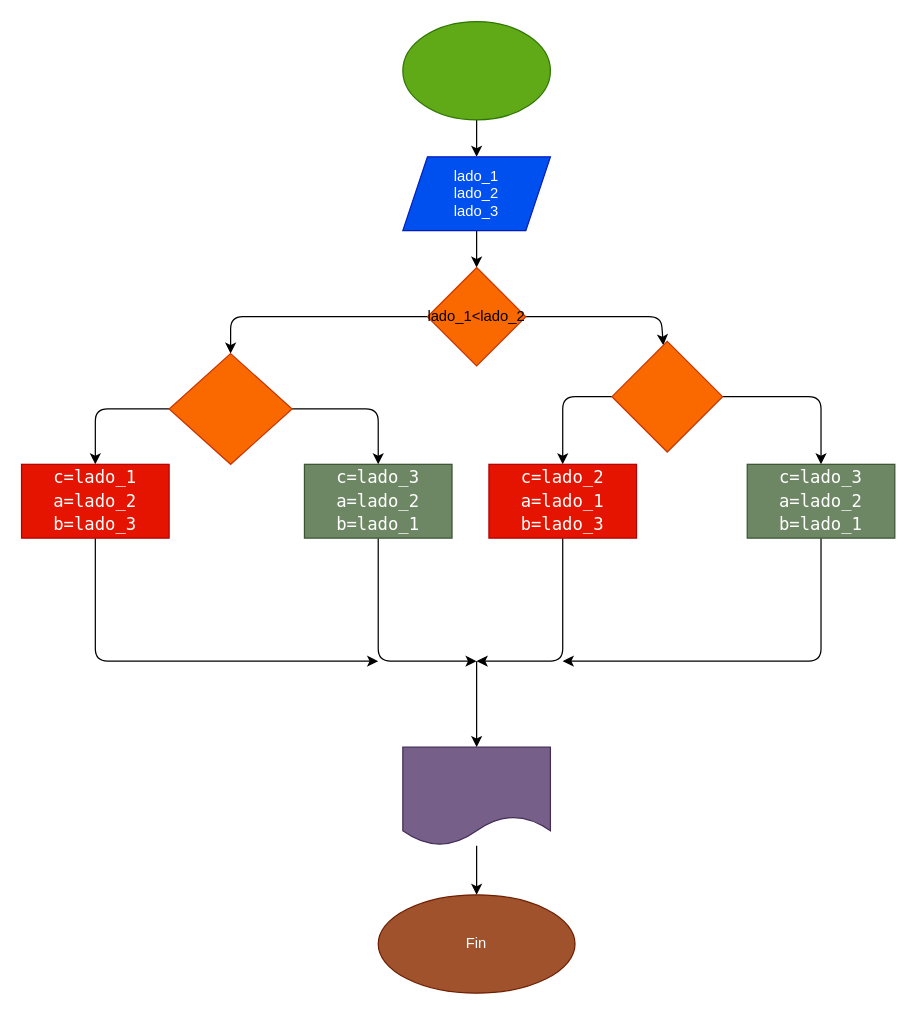
This 916x1015 diagram has some shape labels left out. The centre of each missing label's shape, as x and y in pixels:
Inicio: [476,70]
lado_1<lado_3: [230,408]
lado_2<lado_3: [667,396]
rta: [476,796]
